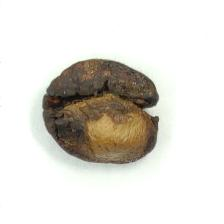NG: (43, 59, 159, 165)
